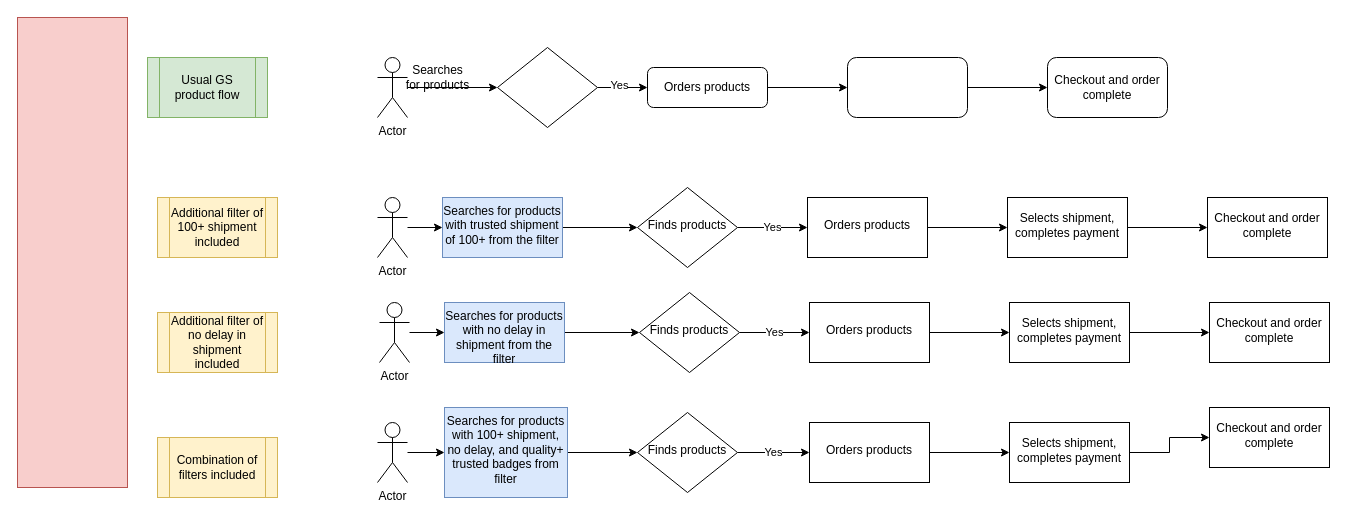
This 1347x521 diagram has some shape labels left out. The box of each missing label's shape, as (x1, y1, x2, y2) in pixels:
Finds GS products: (496, 46, 598, 128)
Selected shipment, completes payment: (846, 56, 968, 118)
Use cases at Actor level: (16, 16, 128, 488)
